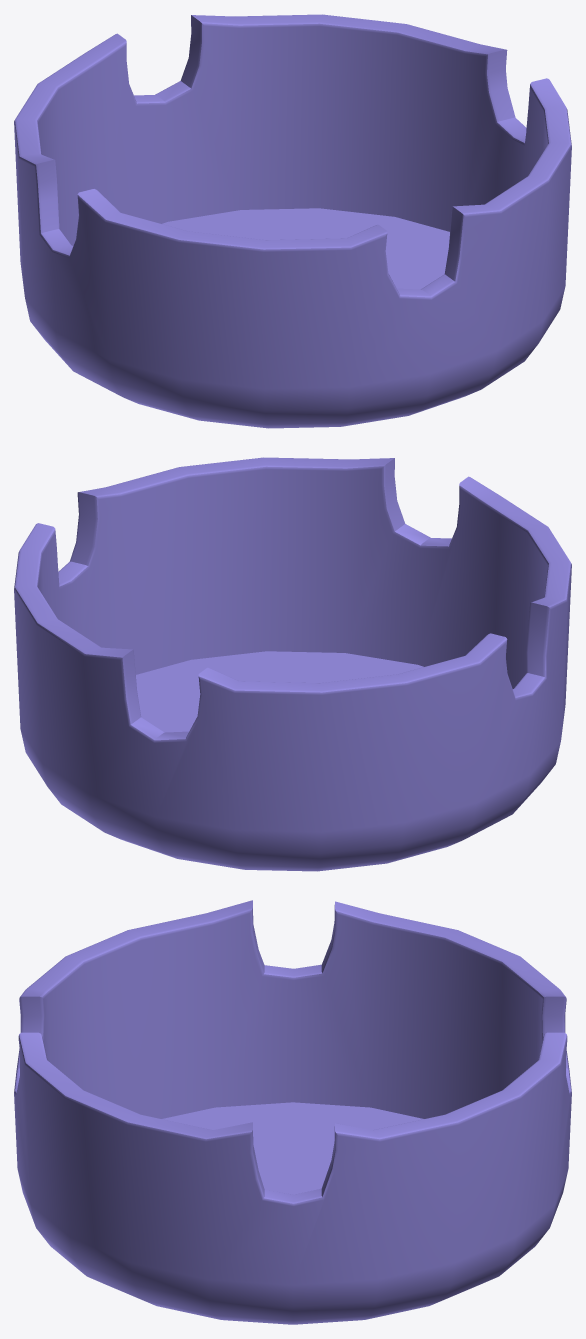
The model's file is cenicero.fbx.
3 renders of one model, top to bottom at view 1: azimuth 30°, elevation 25°; view 2: azimuth 150°, elevation 25°; view 3: azimuth 270°, elevation 25°, orthographic.
Visible parts, largest first — view 1: cenicero; view 2: cenicero; view 3: cenicero.
Part boxes in pixels (box(x1,y1,x2,y2)): cenicero: box(14, 14, 571, 428); cenicero: box(14, 457, 571, 871); cenicero: box(14, 900, 571, 1324).
Size of the model in its own units: 0.5017 by 0.2148 by 0.5017.
